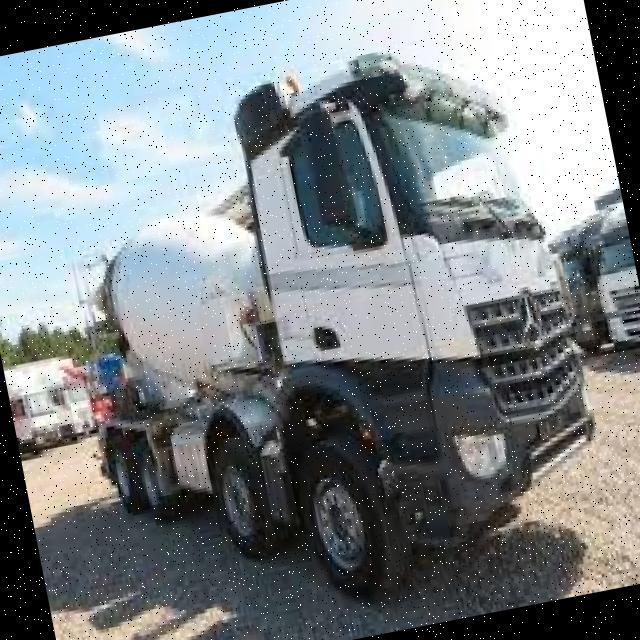Mixer Truck: (20, 11, 626, 640)
